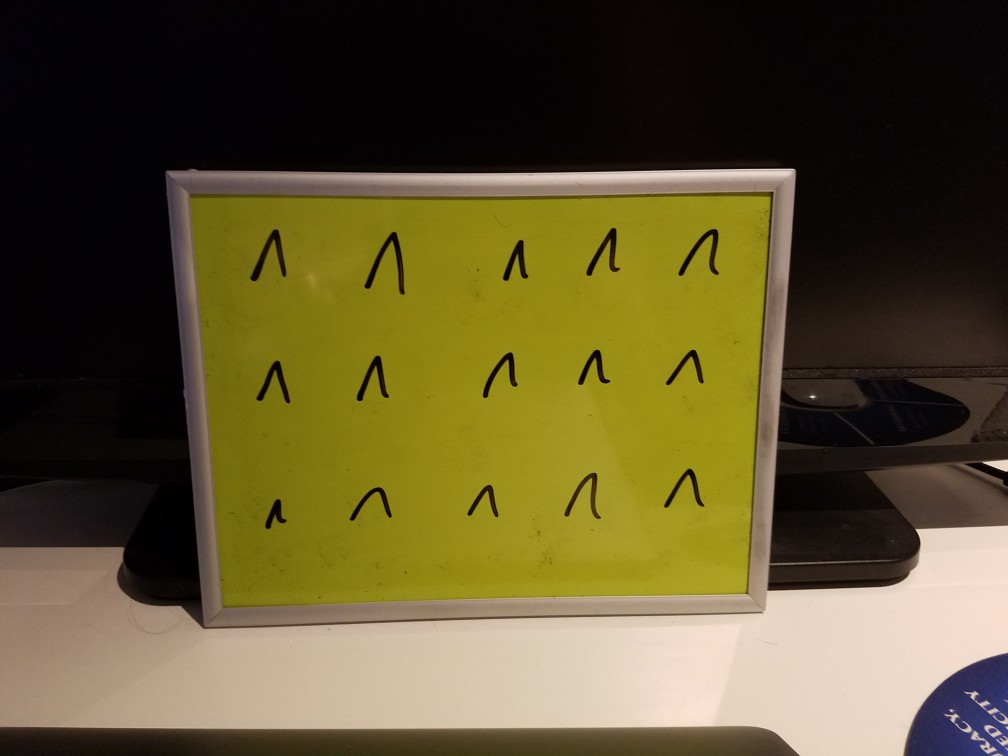^: (644, 450, 721, 527), (357, 221, 421, 304), (571, 215, 640, 291), (665, 212, 734, 285), (245, 341, 306, 423), (240, 217, 303, 295), (486, 227, 546, 295), (348, 344, 398, 416), (557, 464, 611, 530), (458, 471, 510, 530), (568, 341, 618, 401), (665, 339, 715, 399), (345, 480, 398, 535), (482, 346, 524, 404), (257, 488, 294, 540)
